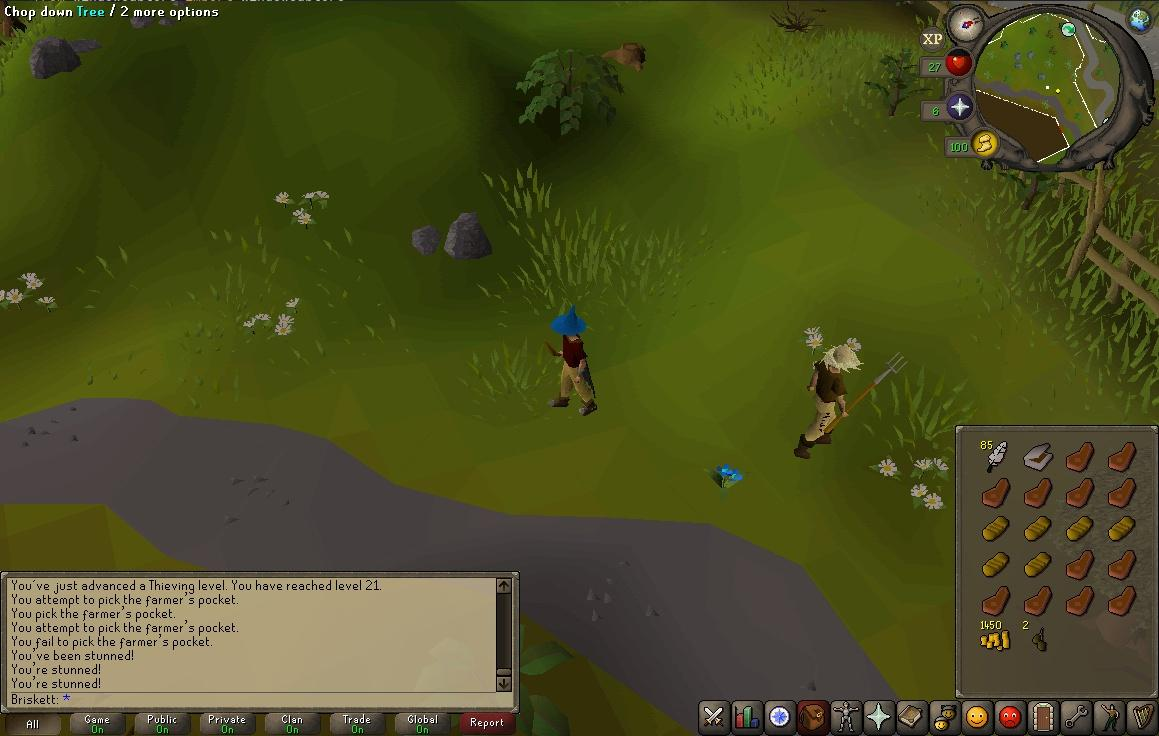Farmer: (794, 336, 864, 460)
